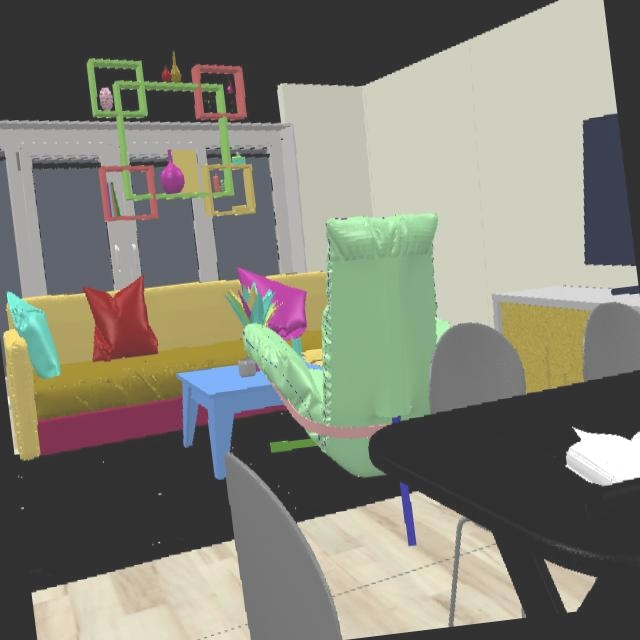book: (561, 429, 640, 510)
chair: (225, 454, 343, 640), (429, 323, 526, 412), (582, 301, 640, 380)
monitor: (582, 113, 636, 268)
pillow: (82, 275, 158, 361), (237, 267, 307, 343), (6, 292, 61, 380)
sofa: (245, 212, 440, 478), (0, 279, 248, 462), (269, 273, 327, 350)
table: (368, 369, 640, 617), (178, 363, 283, 483)
